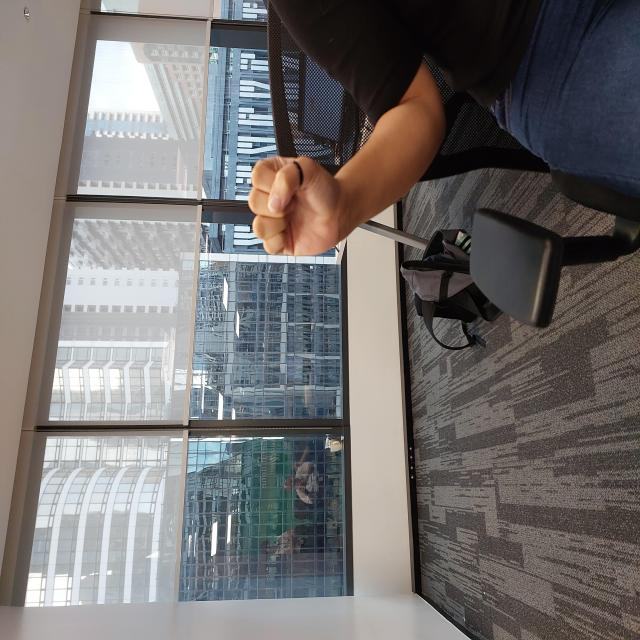S: (381, 245, 487, 349)
